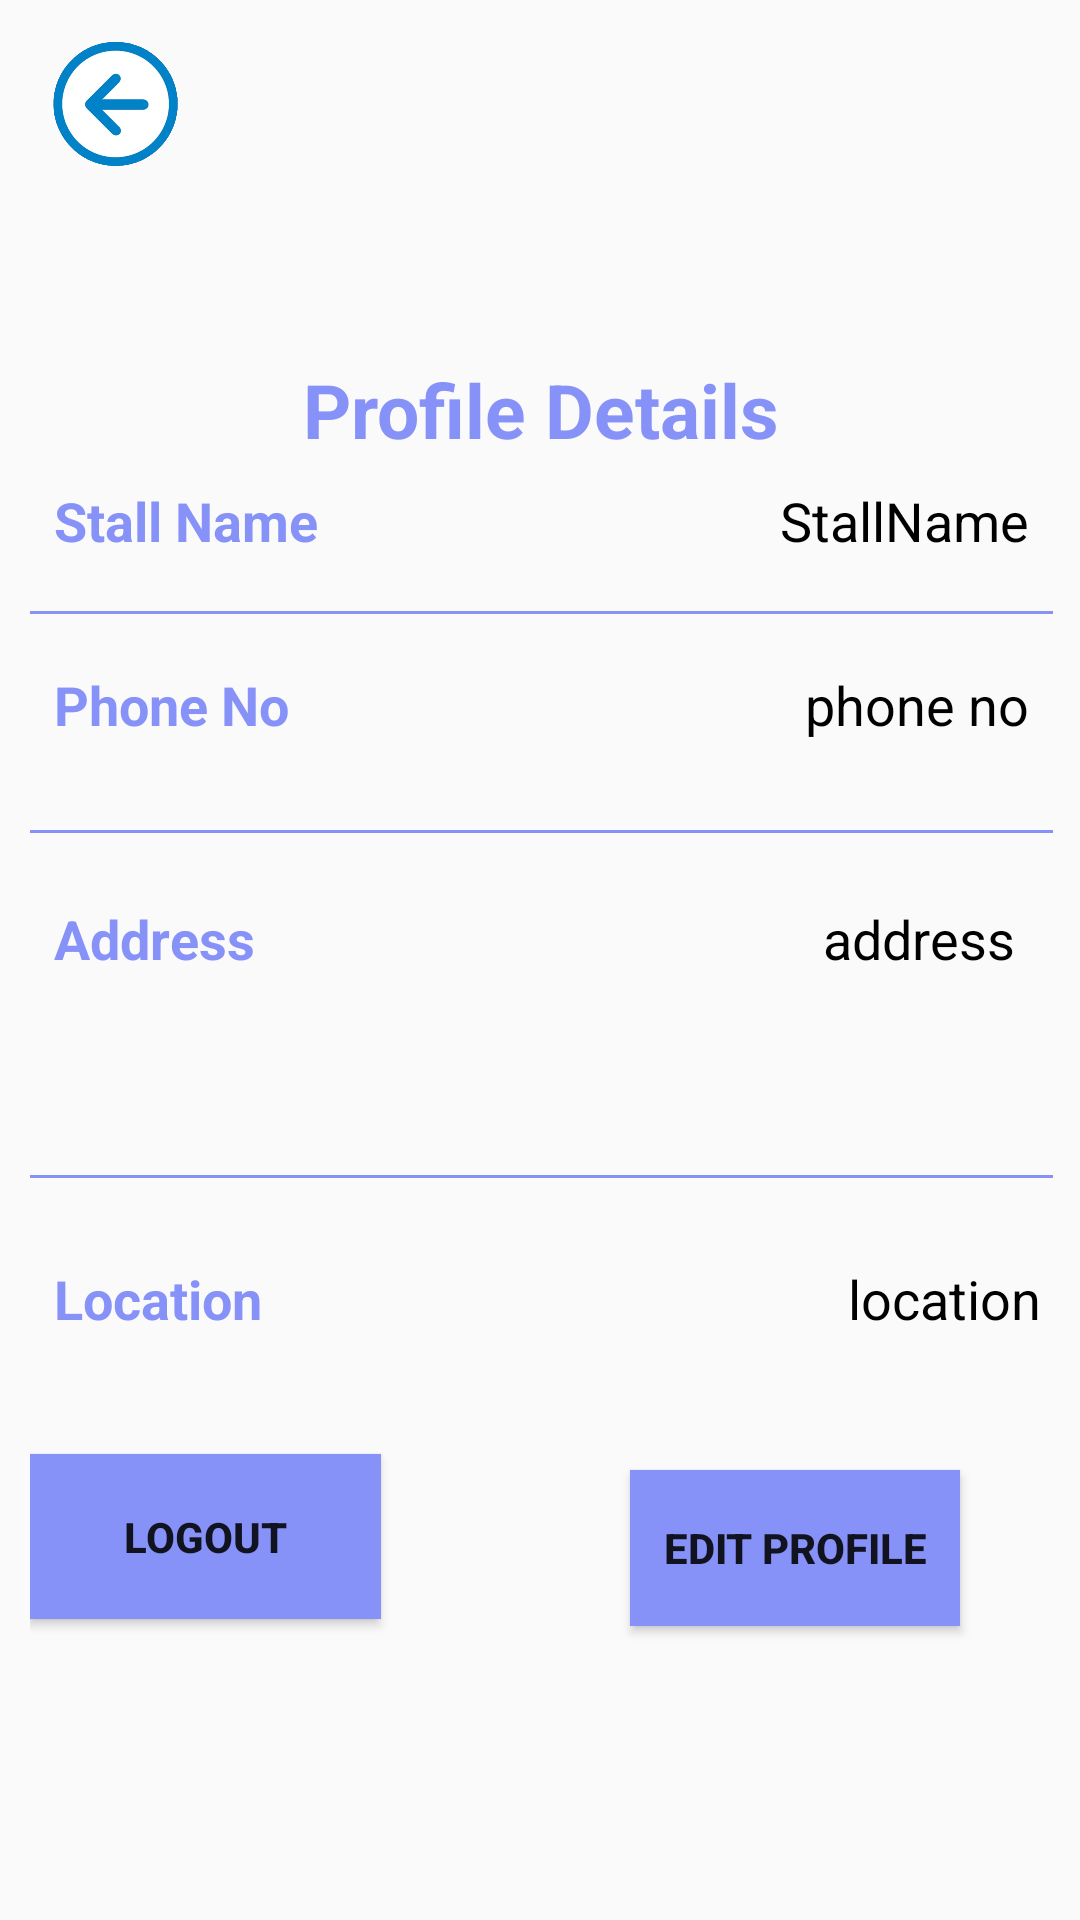

Icon bounding boxes for this 1080 × 1920 phone screenshot, format [x1, y1, x2, y2]:
backbuttonn: [53, 42, 178, 166]
